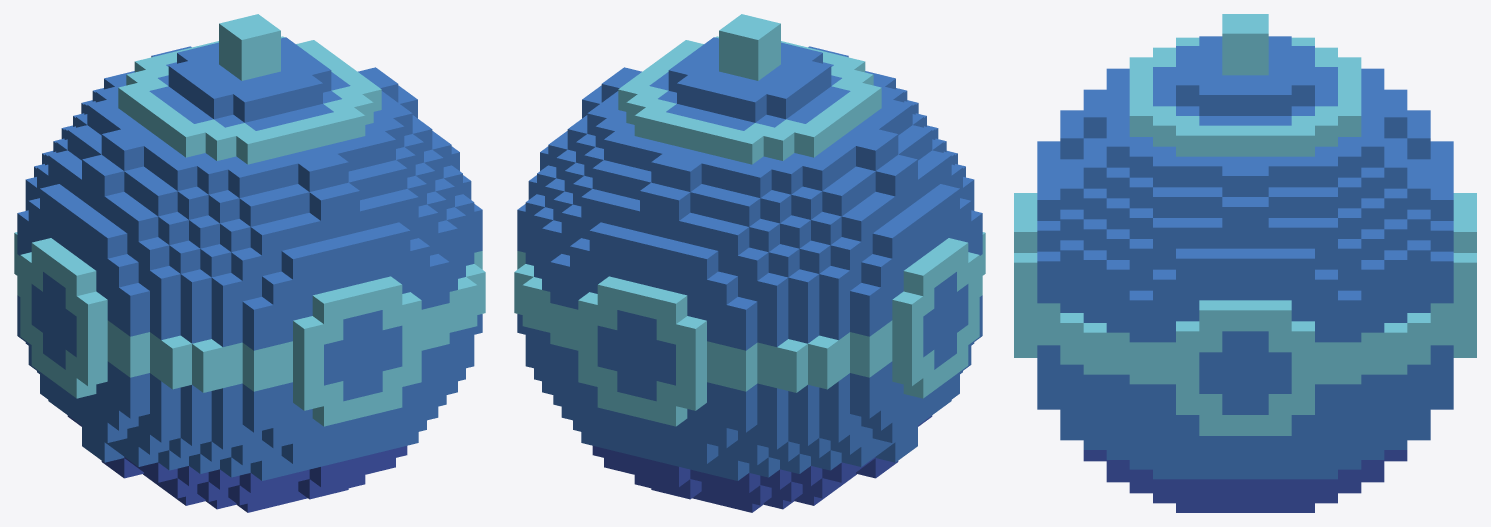
Rendered from teapot_3.obj.
3 renders of one model, left to right at view 1: azimuth 30°, elevation 25°; view 2: azimuth 150°, elevation 25°; view 3: azimuth 270°, elevation 25°, orthographic. The views are drawn at different scales.
Size of the model in its own units: 2 by 2.1 by 2.
1 material, 1 textured.
